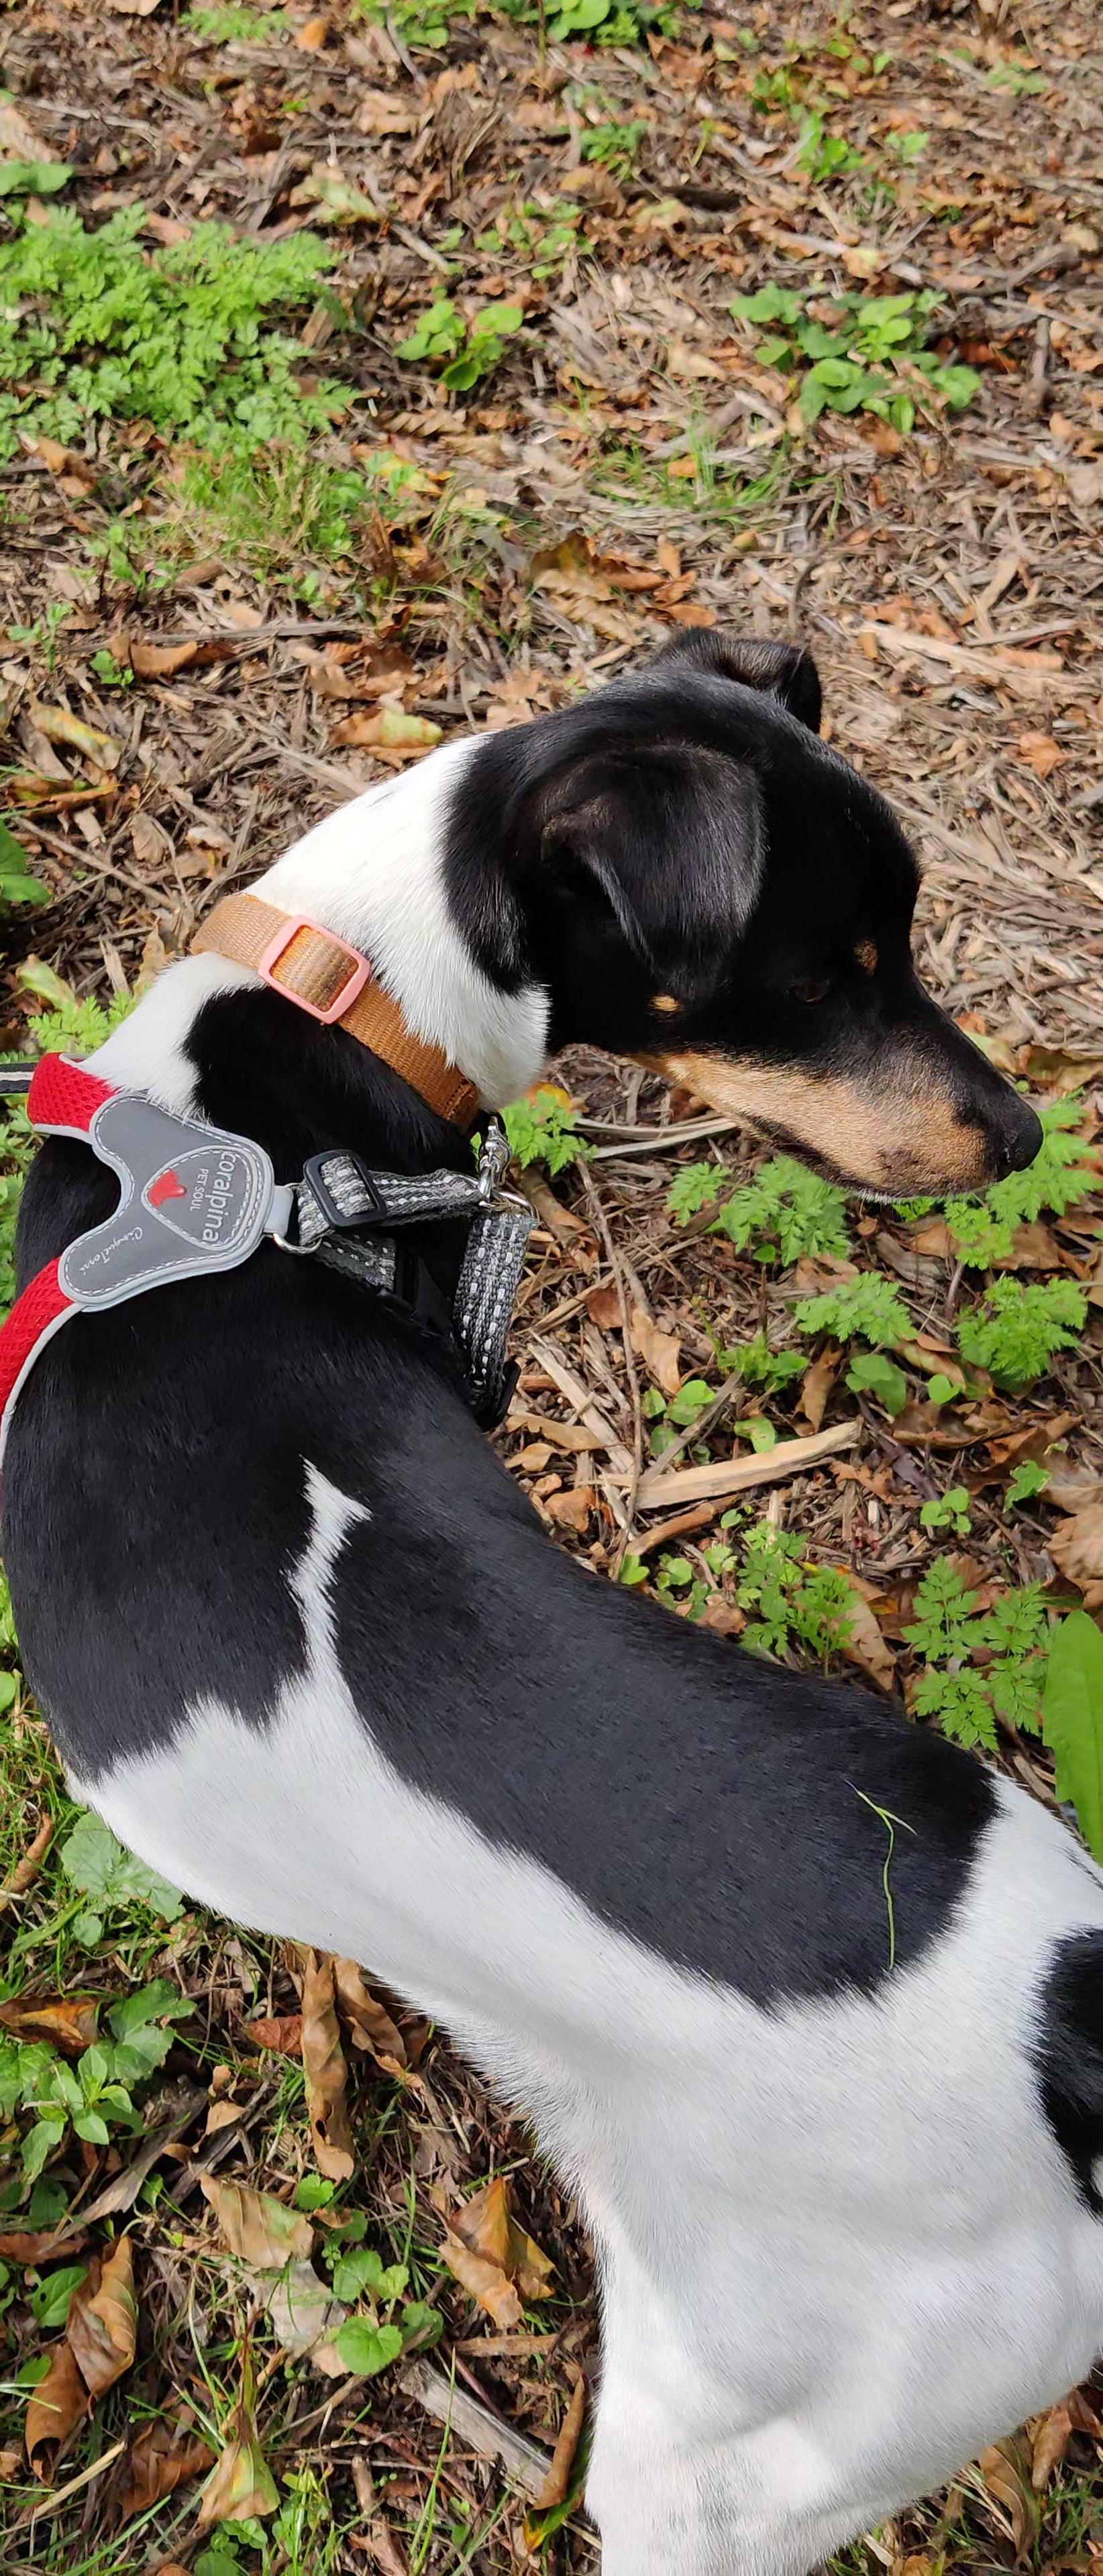Dog: (0, 613, 1103, 2576)
